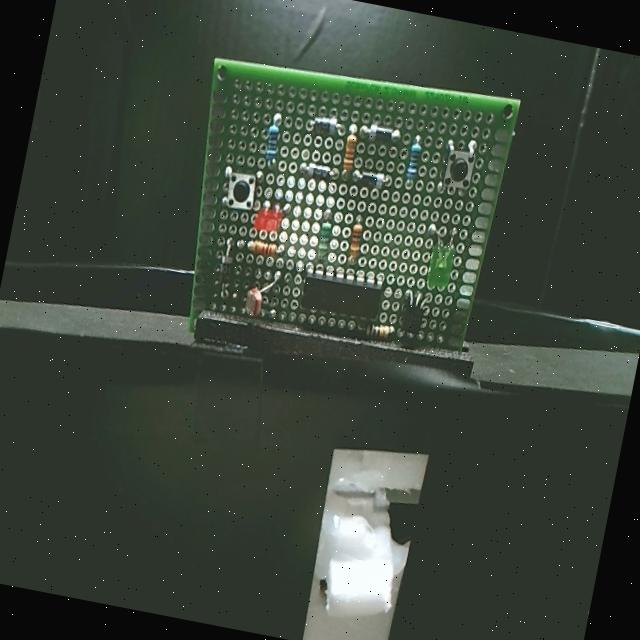IC: (295, 261, 388, 331)
cds: (243, 279, 276, 318)
diode: (363, 114, 402, 154), (210, 252, 237, 296), (354, 166, 394, 194), (302, 158, 336, 182), (312, 114, 341, 140)
led: (423, 233, 458, 290), (250, 198, 288, 238)
resistor: (344, 212, 374, 268), (359, 318, 402, 352), (314, 206, 338, 264), (338, 131, 366, 179), (403, 137, 428, 187), (260, 124, 284, 168), (246, 233, 280, 260)
switch: (436, 137, 486, 196), (215, 163, 258, 214)
transistor: (396, 292, 434, 336)
